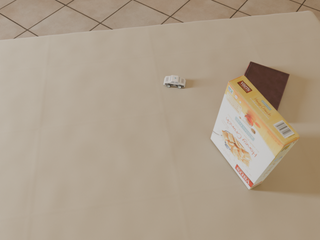book: (244, 62, 289, 110)
box: (211, 75, 299, 189)
toy_car: (164, 75, 186, 88)
